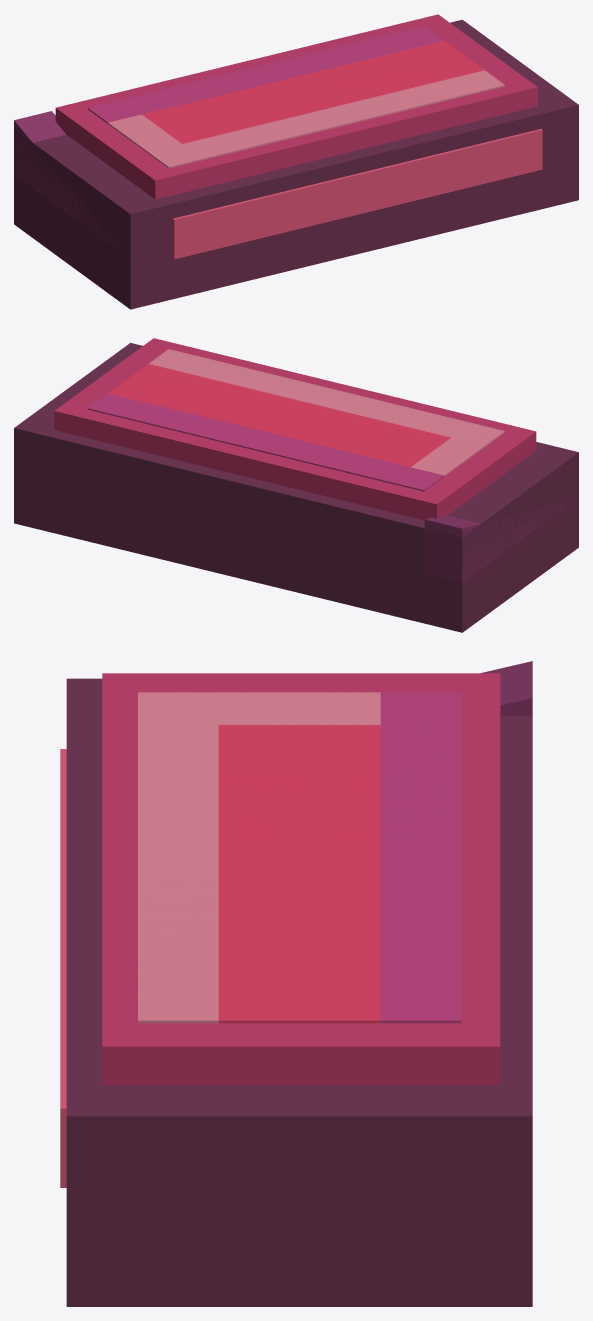
File: CMU3DMaterialLeisurePhoron50Cloud.glb
The picture shows the model from 3 angles, top to bottom: view 1: azimuth 30°, elevation 25°; view 2: azimuth 150°, elevation 25°; view 3: azimuth 270°, elevation 25°; orthographic projection. The views are drawn at different scales.
Parts seen in each view (by area): view 1: solid phoron bar, original solid phoron upper coloration, upper phoron crystal plane, bright front crystalline band, left bevel; view 2: solid phoron bar, original solid phoron upper coloration, upper phoron crystal plane, left bevel; view 3: solid phoron bar, original solid phoron upper coloration, upper phoron crystal plane, bright front crystalline band, left bevel.
Part boxes in pixels (x1,y1,x2,y2): solid phoron bar: (14,19,578,309); original solid phoron upper coloration: (88,26,504,168); upper phoron crystal plane: (55,14,537,199); bright front crystalline band: (172,129,542,259); left bevel: (14,111,128,257); solid phoron bar: (14,343,578,632); original solid phoron upper coloration: (88,349,504,491); upper phoron crystal plane: (54,338,536,520); left bevel: (424,499,574,582); solid phoron bar: (66,678,532,1306); original solid phoron upper coloration: (138,692,461,1023); upper phoron crystal plane: (102,673,500,1084); bright front crystalline band: (60,749,66,1187); left bevel: (481,661,532,715).
Size of the model in its own units: 0.32 by 0.079 by 0.146.
Materials: 5 (1 with a texture image).
